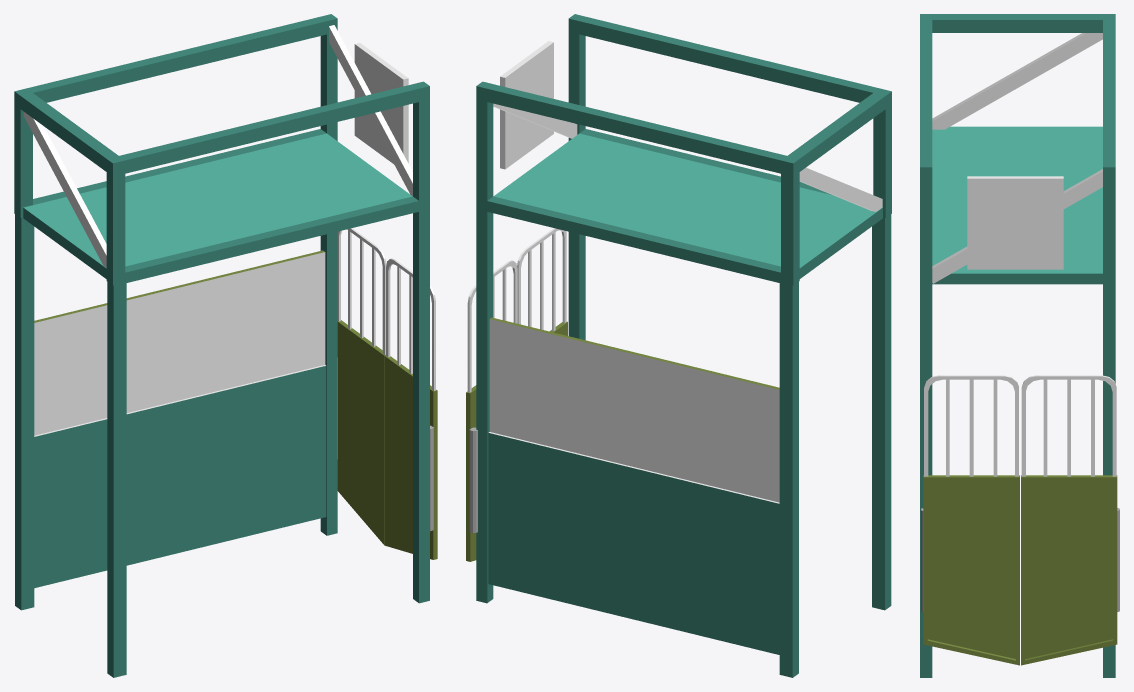
Rendered from Starting_Gate.fbx.
The picture shows the model from 3 angles, left to right: view 1: azimuth 30°, elevation 25°; view 2: azimuth 150°, elevation 25°; view 3: azimuth 270°, elevation 25°; orthographic projection.
Parts seen in each view (by area): view 1: Room_Fame, Room_Wall, Gate_1, Gate_2; view 2: Room_Fame, Room_Wall, Gate_1, Gate_2; view 3: Room_Fame, Gate_2, Gate_1.
Boxes of the visible parts, box(x1,y1,x2,y2) form: Room_Fame: box(14, 14, 429, 677); Room_Wall: box(34, 250, 326, 588); Gate_1: box(337, 228, 386, 545); Gate_2: box(384, 258, 437, 559); Room_Fame: box(476, 14, 891, 677); Room_Wall: box(488, 317, 779, 654); Gate_1: box(466, 260, 517, 561); Gate_2: box(517, 228, 567, 335); Room_Fame: box(920, 14, 1115, 677); Gate_2: box(921, 375, 1019, 665); Gate_1: box(1021, 375, 1119, 665).
Bounding box in the file's own units: 11.95 × 18 × 6.39.
